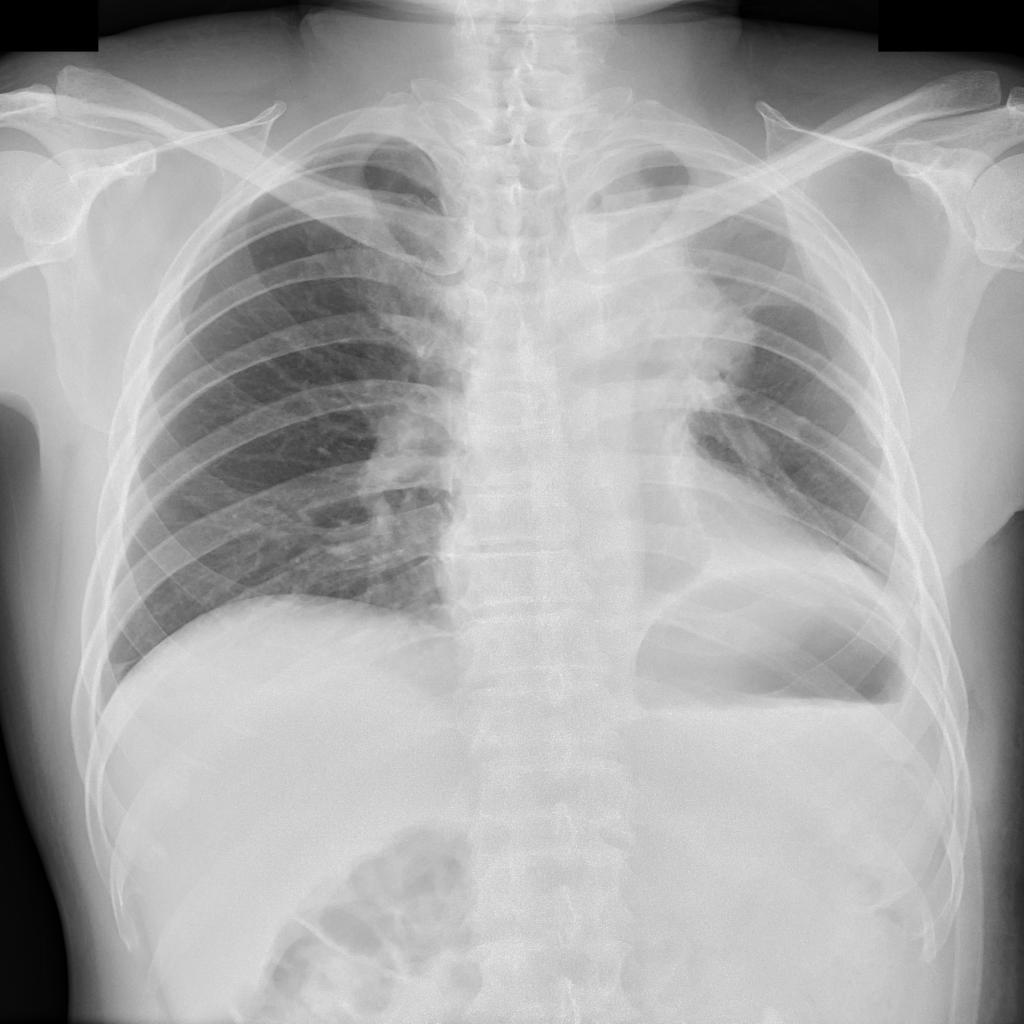Nodule: (583, 239, 754, 406)
